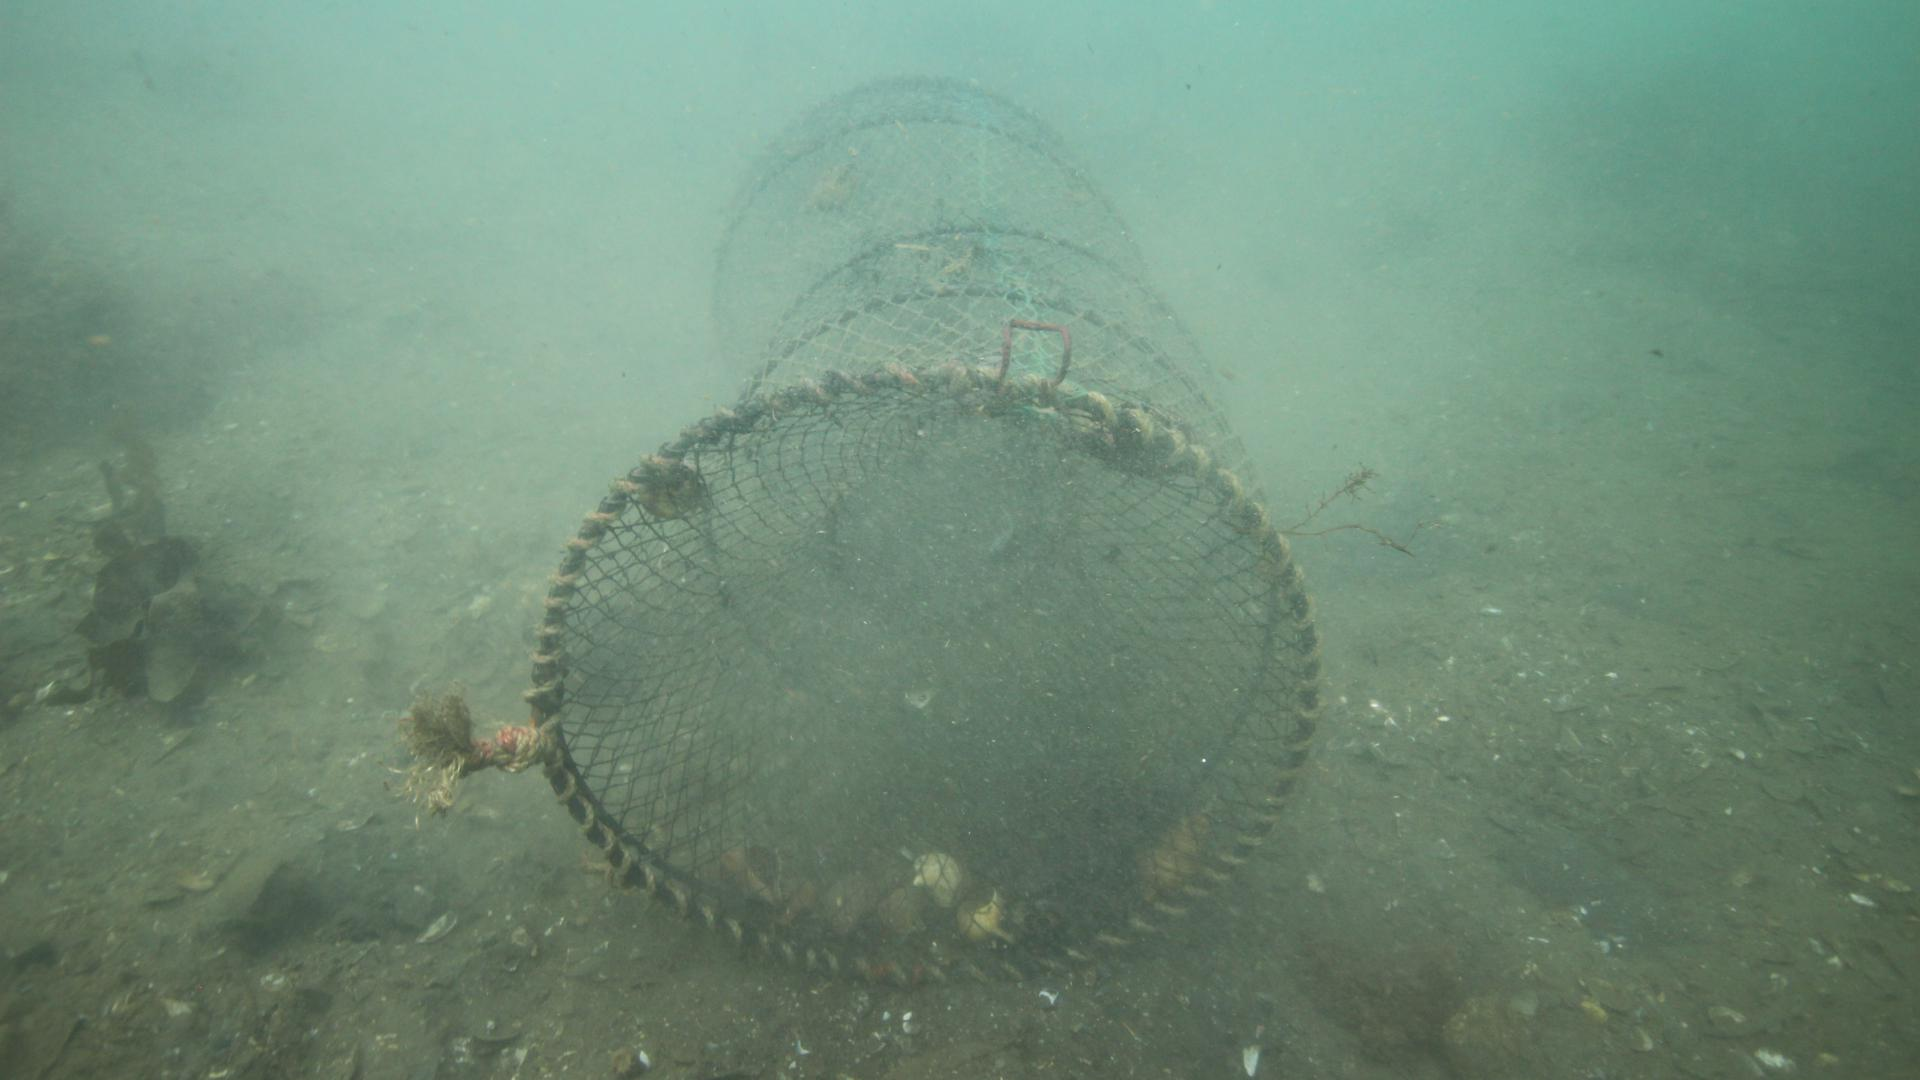spring fish trap: (525, 76, 1319, 980)
